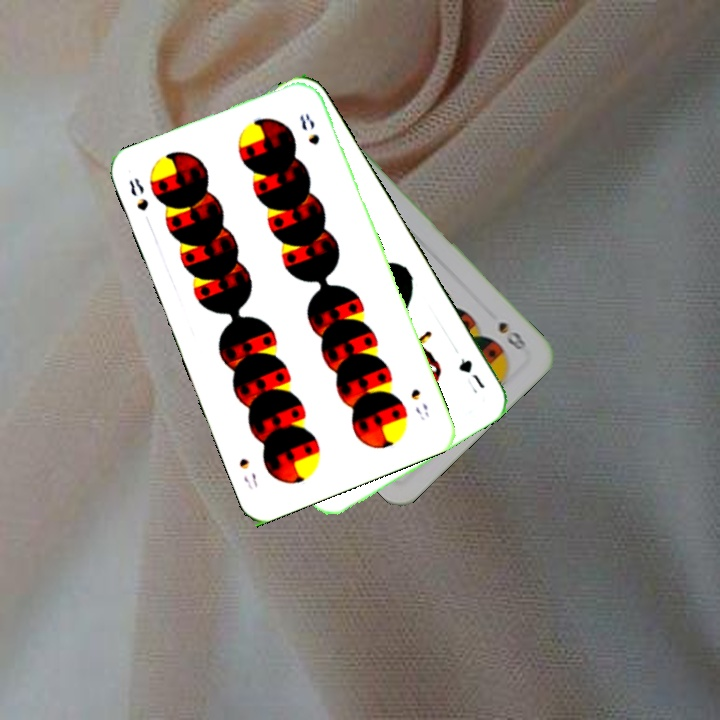GU: (454, 354, 488, 391)
S8: (494, 317, 529, 353), (124, 173, 151, 214), (407, 385, 431, 423)
